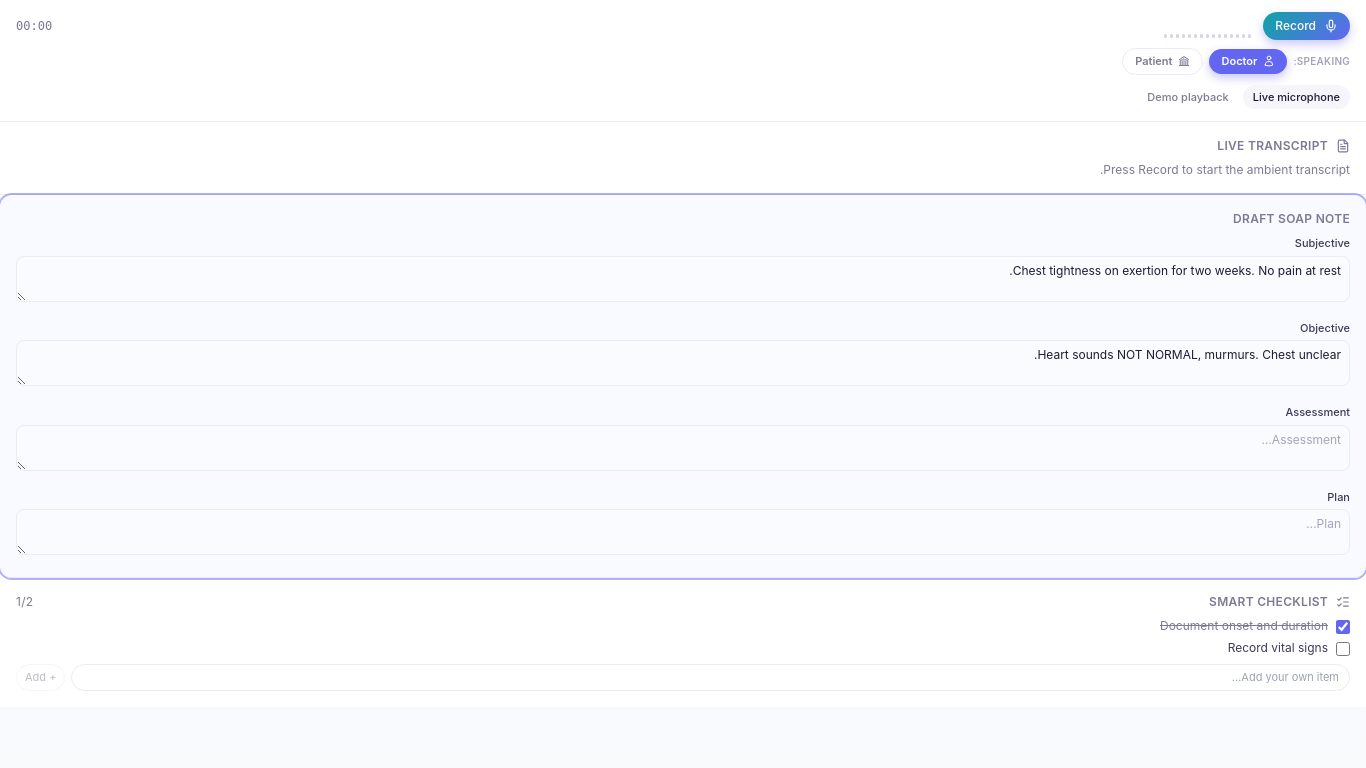
Scenario: Smart checklist auto-proposal — wiring (CortexProvider) › recommends from a note pasted into the SOAP fields with nothing dictated
Type "ECHO. And MRI. Follow up in one week" into the text box labelled "Plan".
click(683, 532); type("ECHO. And MRI. Follow up in one week")  # box 16,509 -> 1350,555
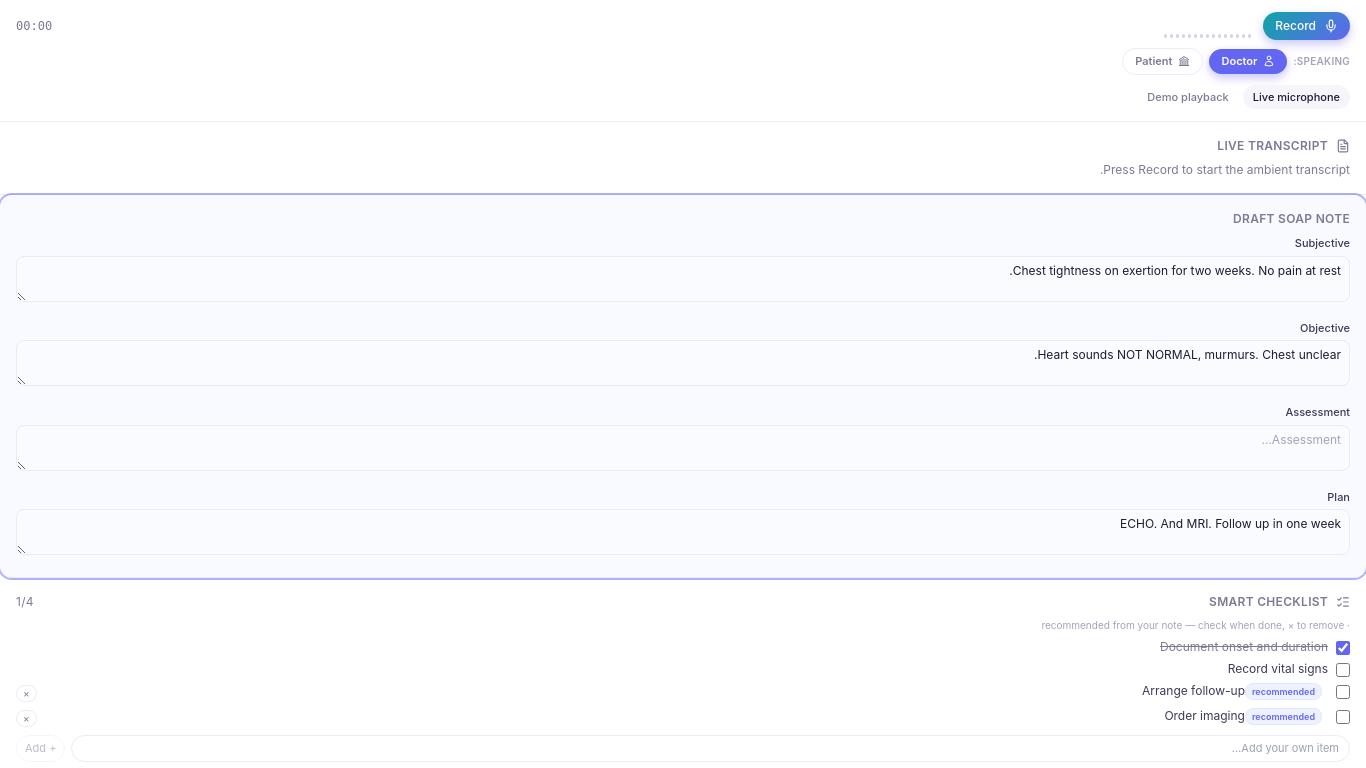
Expected: the text "· recommended from your note — check when done, × to remove" is shown, 1041,619 -> 1350,631
Expected: the button named "Remove recommended item: Arrange follow-up" is shown, 16,685 -> 37,702
